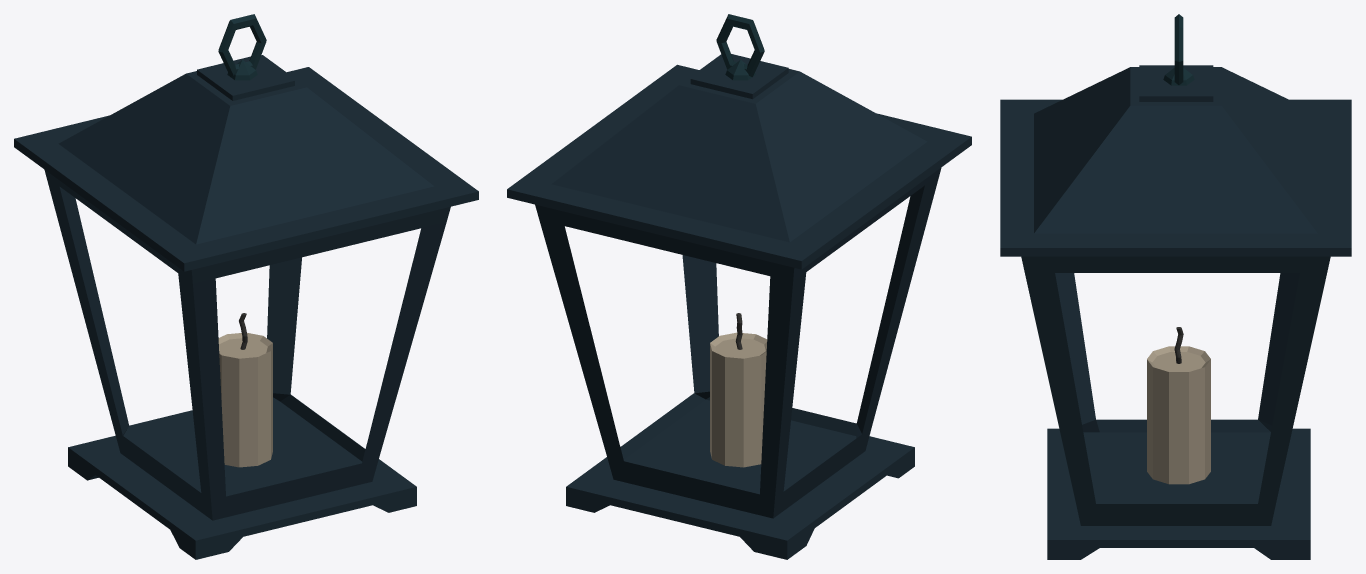
Rendered from Lampara .fbx.
3 renders of one model, left to right at view 1: azimuth 30°, elevation 25°; view 2: azimuth 150°, elevation 25°; view 3: azimuth 270°, elevation 25°, orthographic. The views are drawn at different scales.
Parts seen in each view (by area): view 1: Lampara; view 2: Lampara; view 3: Lampara.
Boxes of the visible parts, x1,y1,x2,y2 form: Lampara: (14,14,478,559); Lampara: (507,14,971,559); Lampara: (1000,14,1351,559).
Bounding box in the file's own units: 79.98 × 122 × 79.98.
